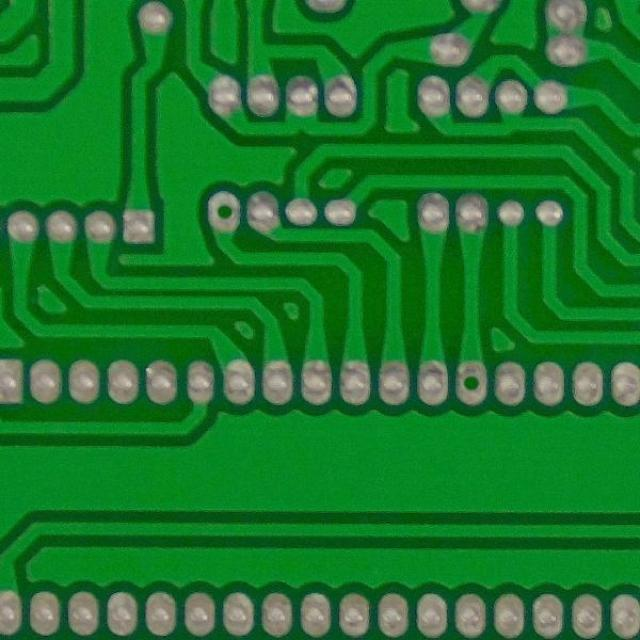Missing_Hole: (449, 360, 494, 408), (203, 188, 244, 234)
